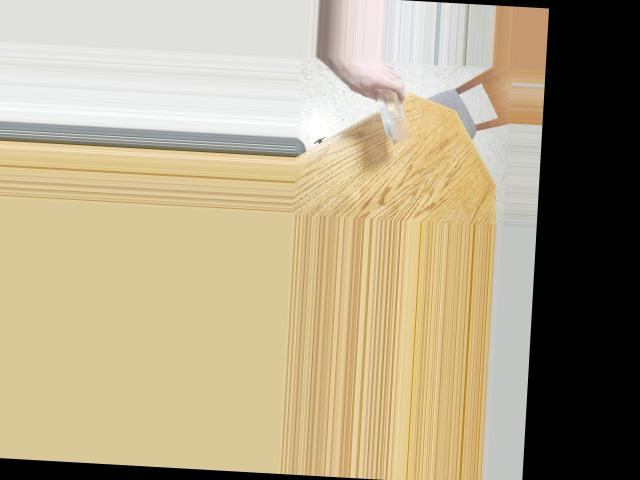cheese: (372, 87, 415, 135)
